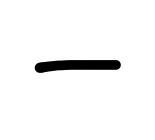minus: (35, 60, 121, 73)
